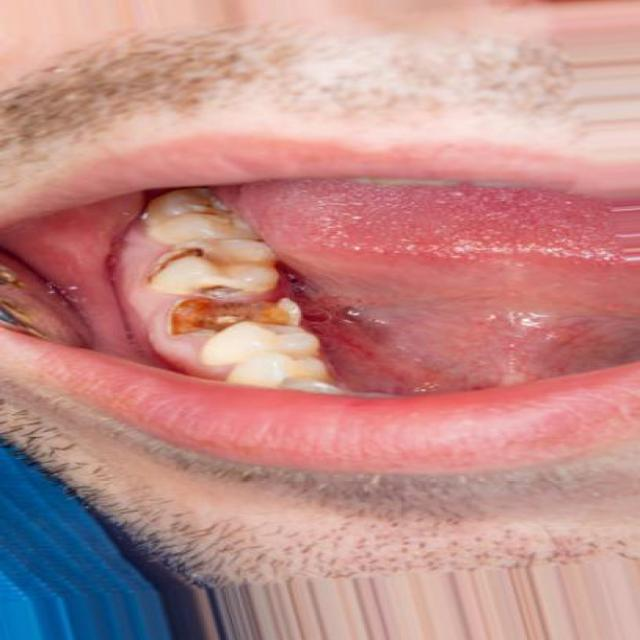caries: (152, 282, 313, 342), (165, 187, 248, 237), (134, 238, 211, 281)
